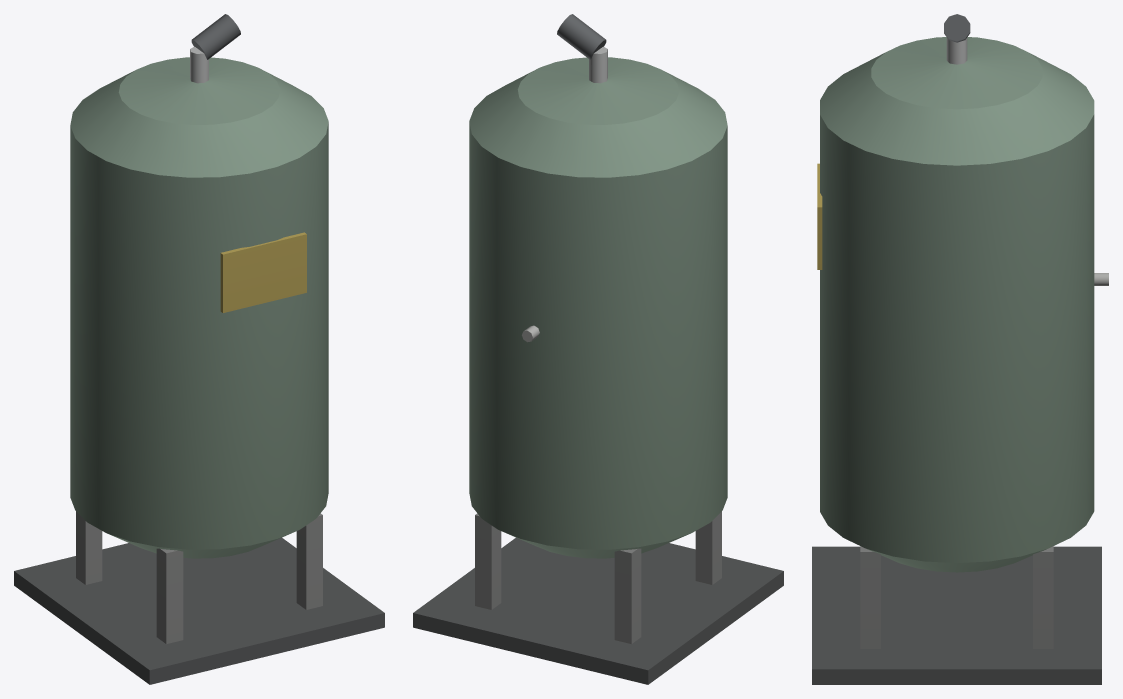
File: airReceiver_steel.glb
3 renders of one model, left to right at view 1: azimuth 30°, elevation 25°; view 2: azimuth 150°, elevation 25°; view 3: azimuth 270°, elevation 25°, orthographic. The views are drawn at different scales.
Parts seen in each view (by area): view 1: airReceiver_steel; view 2: airReceiver_steel; view 3: airReceiver_steel.
Part boxes in pixels (x1,y1,x2,y2): airReceiver_steel: (14, 14, 384, 684); airReceiver_steel: (413, 14, 783, 684); airReceiver_steel: (812, 14, 1108, 684).
Bounding box in the file's own units: 0.84 × 2 × 0.86.
